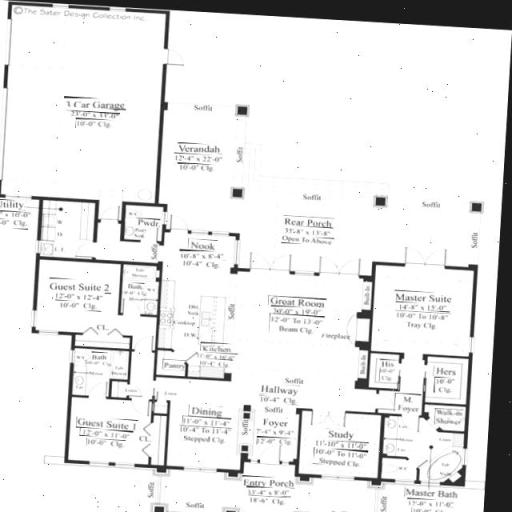Room: (64, 399, 150, 465), (42, 263, 116, 331), (302, 414, 372, 483), (169, 400, 235, 467)
bathroom: (75, 335, 130, 397)
garage: (8, 8, 162, 200)
hall: (258, 276, 349, 380), (378, 267, 468, 353)
kitchen: (158, 333, 235, 382)
porch: (271, 198, 342, 259)
